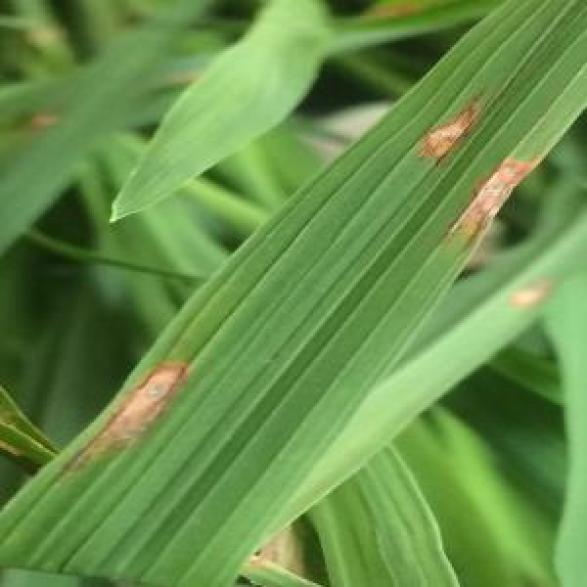Leaf_smut: (59, 330, 223, 476), (428, 131, 548, 251), (401, 82, 503, 168)
